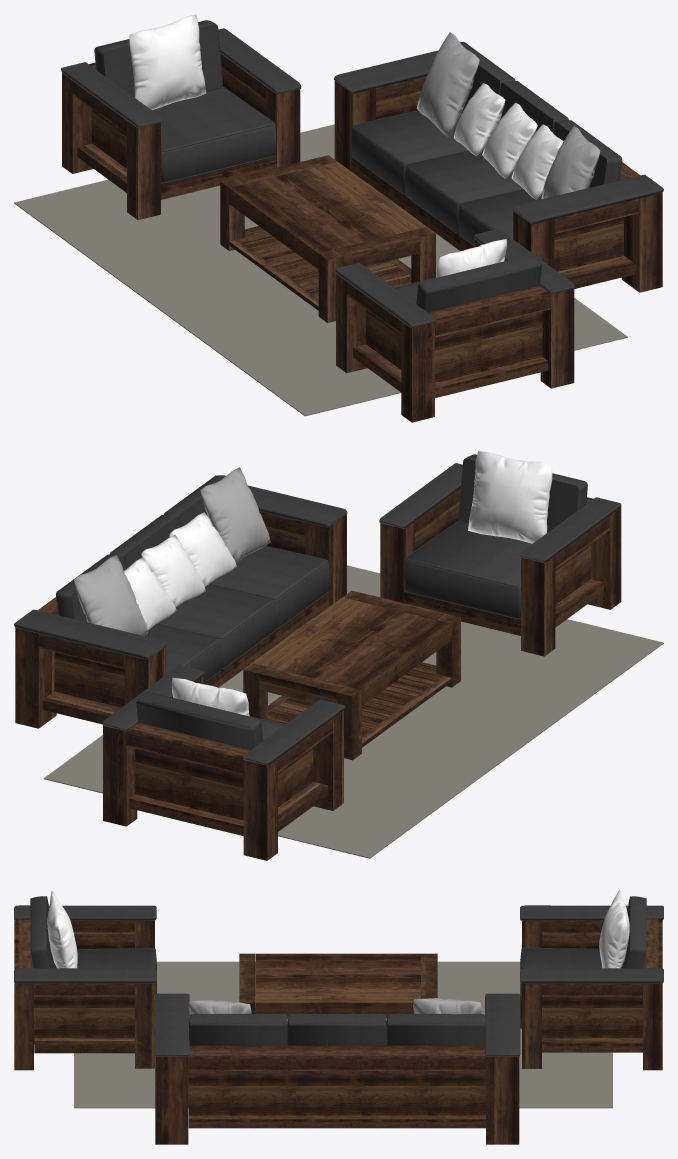
3 views of the same model, one above another, from view 1: azimuth 30°, elevation 25°; view 2: azimuth 150°, elevation 25°; view 3: azimuth 270°, elevation 25° (orthographic). The views are drawn at different scales.
Parts seen in each view (by area): view 1: Mesh16_Group11_Group1_Model, Mesh92_Group52_Group44_Group1_Model, Mesh10_Cushion_Bottom_1_1_Group7_Group2_Group1_Model, Mesh76_Group39_Group36_Group32_Group1_Model, Mesh14_Group9_Group2_Group1_Model, Mesh24_Group18_Group12_Group1_Model, Mesh45_Cushion_Bottom_1_7_Group27_Group12_Group1_Model, Mesh48_Cushion_Bottom_1_8_Group28_Group12_Group1_Model, Mesh22_Group16_Group12_Group1_Model, Mesh98_Cushion_Bottom_1_10_Group54_Group44_Group1_Model, Mesh7_Group6_Group2_Group1_Model, Mesh25_Group19_Group12_Group1_Model (+39 smaller); view 2: Mesh16_Group11_Group1_Model, Mesh7_Group6_Group2_Group1_Model, Mesh95_Cushion_Bottom_1_9_Group53_Group44_Group1_Model, Mesh76_Group39_Group36_Group32_Group1_Model, Mesh99_Group55_Group44_Group1_Model, Mesh42_Cushion_Bottom_1_6_Group26_Group12_Group1_Model, Mesh45_Cushion_Bottom_1_7_Group27_Group12_Group1_Model, Mesh13_Cushion_Bottom_1_2_Group8_Group2_Group1_Model, Mesh92_Group52_Group44_Group1_Model, Mesh30_Group22_Group12_Group1_Model, Mesh25_Group19_Group12_Group1_Model, Mesh23_Group18_Group12_Group1_Model (+41 smaller); view 3: Mesh24_Group18_Group12_Group1_Model, Mesh16_Group11_Group1_Model, Mesh1_Group3_Group2_Group1_Model, Mesh76_Group39_Group36_Group32_Group1_Model, Mesh90_Group50_Group44_Group1_Model, Mesh33_Cushion_Bottom_1_3_Group23_Group12_Group1_Model, Mesh36_Cushion_Bottom_1_4_Group24_Group12_Group1_Model, Mesh39_Cushion_Bottom_1_5_Group25_Group12_Group1_Model, Mesh80_Group36_Group32_Group1_Model, Mesh23_Group18_Group12_Group1_Model, Mesh92_Group52_Group44_Group1_Model, Mesh7_Group6_Group2_Group1_Model (+27 smaller).
Part boxes in pixels (x1=…): Mesh16_Group11_Group1_Model: x1=14, y1=124, x2=627, y2=416; Mesh92_Group52_Group44_Group1_Model: x1=401, y1=285, x2=574, y2=422; Mesh10_Cushion_Bottom_1_1_Group7_Group2_Group1_Model: x1=152, y1=87, x2=276, y2=182; Mesh76_Group39_Group36_Group32_Group1_Model: x1=245, y1=165, x2=410, y2=249; Mesh14_Group9_Group2_Group1_Model: x1=129, y1=14, x2=206, y2=110; Mesh24_Group18_Group12_Group1_Model: x1=352, y1=158, x2=662, y2=292; Mesh45_Cushion_Bottom_1_7_Group27_Group12_Group1_Model: x1=405, y1=148, x2=523, y2=232; Mesh48_Cushion_Bottom_1_8_Group28_Group12_Group1_Model: x1=351, y1=110, x2=467, y2=193; Mesh22_Group16_Group12_Group1_Model: x1=513, y1=211, x2=623, y2=271; Mesh98_Cushion_Bottom_1_10_Group54_Group44_Group1_Model: x1=416, y1=255, x2=541, y2=312; Mesh7_Group6_Group2_Group1_Model: x1=62, y1=62, x2=276, y2=199; Mesh25_Group19_Group12_Group1_Model: x1=416, y1=32, x2=479, y2=136; Mesh16_Group11_Group1_Model: x1=43, y1=565, x2=663, y2=858; Mesh7_Group6_Group2_Group1_Model: x1=103, y1=722, x2=277, y2=860; Mesh95_Cushion_Bottom_1_9_Group53_Group44_Group1_Model: x1=404, y1=522, x2=532, y2=618; Mesh76_Group39_Group36_Group32_Group1_Model: x1=268, y1=601, x2=435, y2=685; Mesh99_Group55_Group44_Group1_Model: x1=468, y1=451, x2=552, y2=543; Mesh42_Cushion_Bottom_1_6_Group26_Group12_Group1_Model: x1=209, y1=546, x2=329, y2=628; Mesh45_Cushion_Bottom_1_7_Group27_Group12_Group1_Model: x1=157, y1=584, x2=275, y2=668; Mesh13_Cushion_Bottom_1_2_Group8_Group2_Group1_Model: x1=136, y1=692, x2=262, y2=749; Mesh92_Group52_Group44_Group1_Model: x1=404, y1=497, x2=621, y2=635; Mesh30_Group22_Group12_Group1_Model: x1=200, y1=467, x2=270, y2=563; Mesh25_Group19_Group12_Group1_Model: x1=74, y1=555, x2=147, y2=635; Mesh23_Group18_Group12_Group1_Model: x1=15, y1=627, x2=56, y2=728; Mesh24_Group18_Group12_Group1_Model: x1=155, y1=1045, x2=485, y2=1144; Mesh16_Group11_Group1_Model: x1=74, y1=961, x2=612, y2=1108; Mesh1_Group3_Group2_Group1_Model: x1=522, y1=983, x2=642, y2=1068; Mesh76_Group39_Group36_Group32_Group1_Model: x1=256, y1=960, x2=420, y2=995; Mesh90_Group50_Group44_Group1_Model: x1=34, y1=996, x2=134, y2=1037; Mesh33_Cushion_Bottom_1_3_Group23_Group12_Group1_Model: x1=386, y1=1014, x2=485, y2=1045; Mesh36_Cushion_Bottom_1_4_Group24_Group12_Group1_Model: x1=288, y1=1014, x2=386, y2=1045; Mesh39_Cushion_Bottom_1_5_Group25_Group12_Group1_Model: x1=189, y1=1014, x2=287, y2=1045; Mesh80_Group36_Group32_Group1_Model: x1=256, y1=995, x2=420, y2=1017; Mesh23_Group18_Group12_Group1_Model: x1=486, y1=1056, x2=519, y2=1144; Mesh92_Group52_Group44_Group1_Model: x1=14, y1=919, x2=34, y2=1070; Mesh7_Group6_Group2_Group1_Model: x1=643, y1=919, x2=662, y2=1070.
Size of the model in its own units: 4.27 by 1.41 by 6.45.
8 materials, 4 textured.
